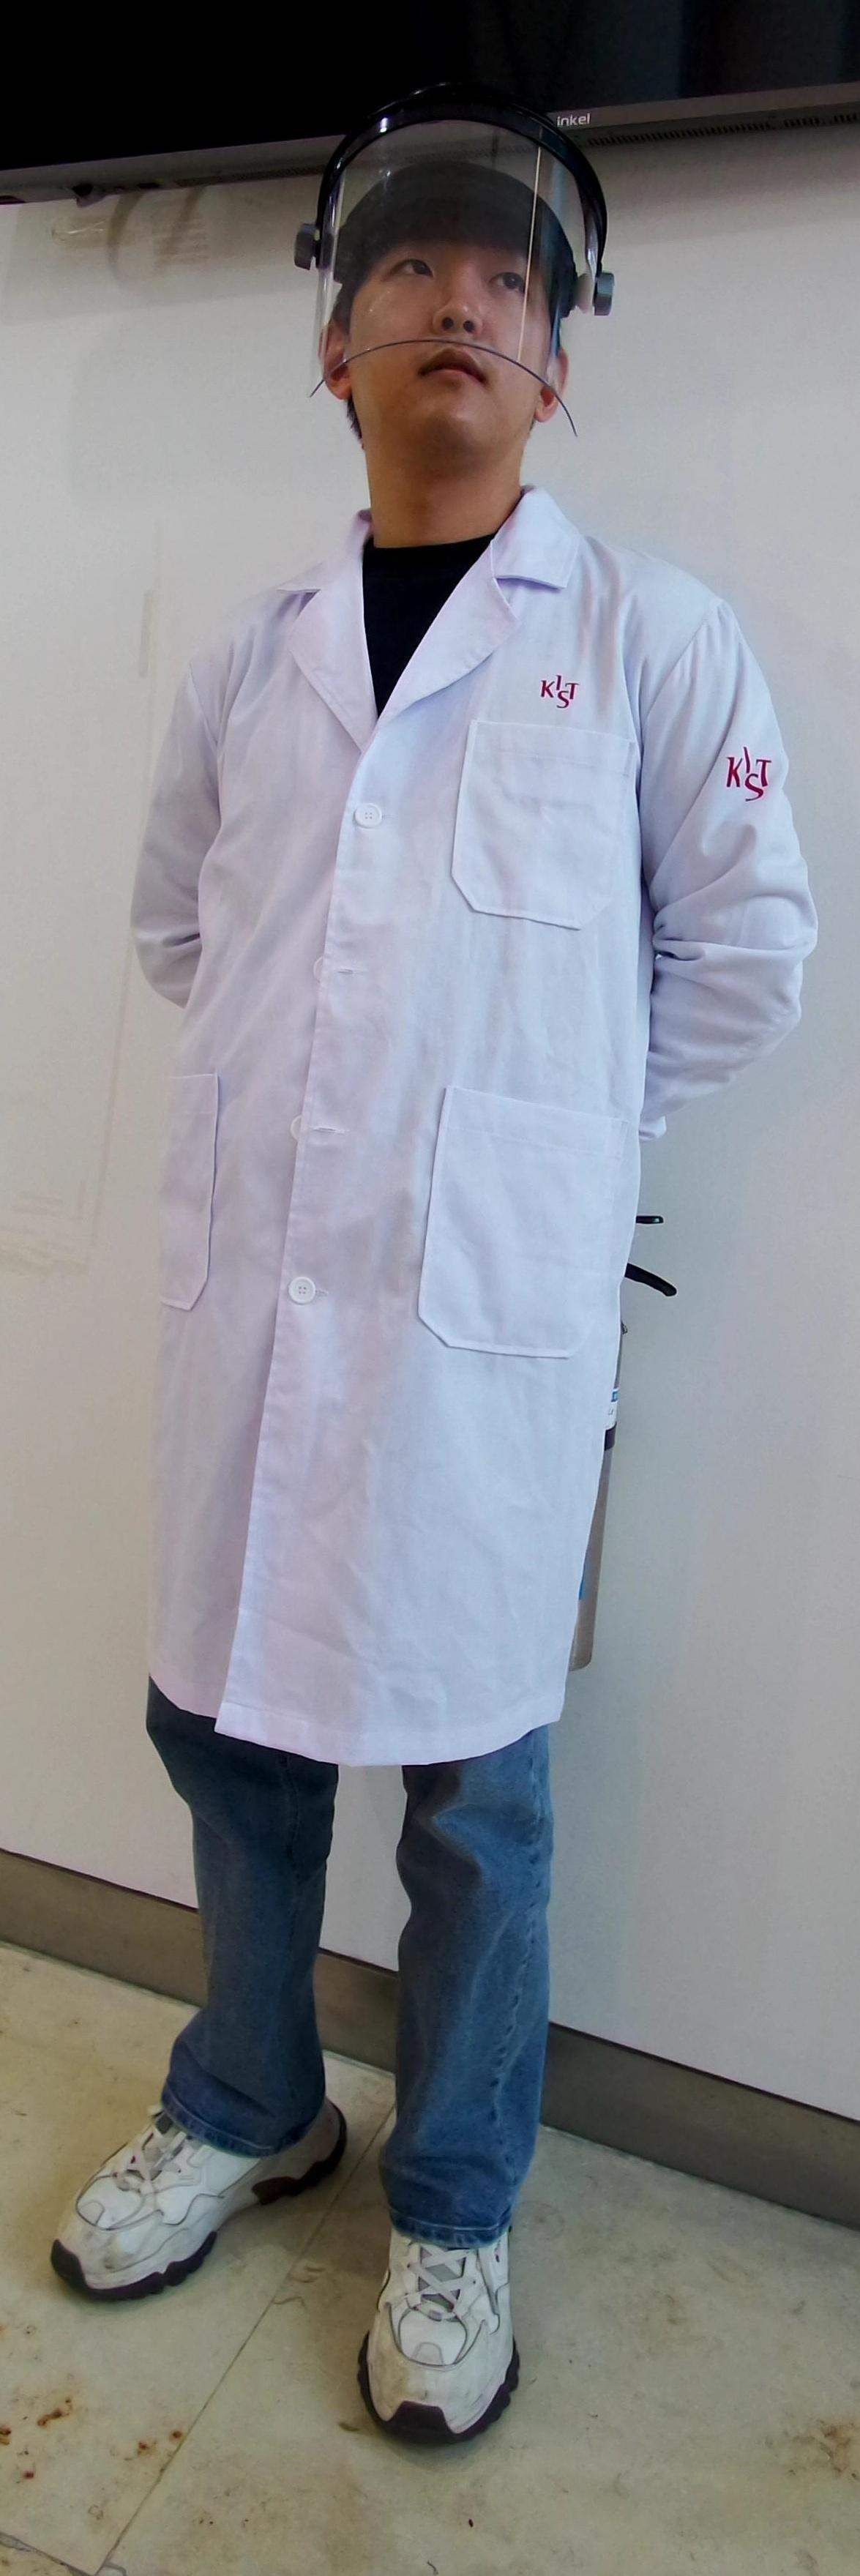lab_coat: (126, 550, 634, 1751)
